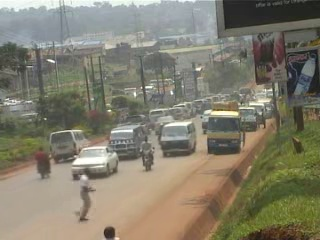Car: (68, 145, 123, 179), (125, 111, 153, 134), (154, 114, 175, 137)
Motorcycle: (136, 137, 155, 172), (33, 147, 52, 181), (156, 123, 166, 144)
